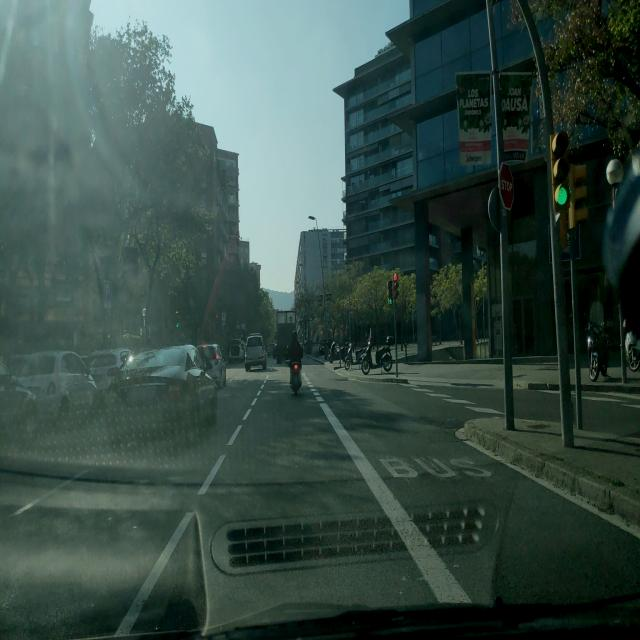bike: (587, 331, 610, 382), (361, 344, 392, 374), (329, 340, 349, 369), (346, 342, 366, 370), (289, 357, 303, 395)
car: (121, 344, 218, 442), (16, 350, 98, 426), (0, 348, 38, 457), (88, 348, 132, 395), (197, 343, 227, 388), (245, 332, 267, 372), (228, 337, 245, 363)
